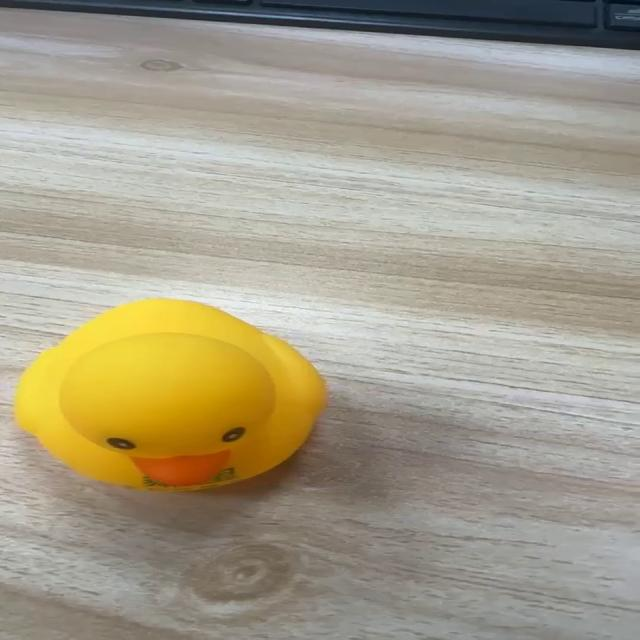yellow_duck: (12, 296, 328, 493)
